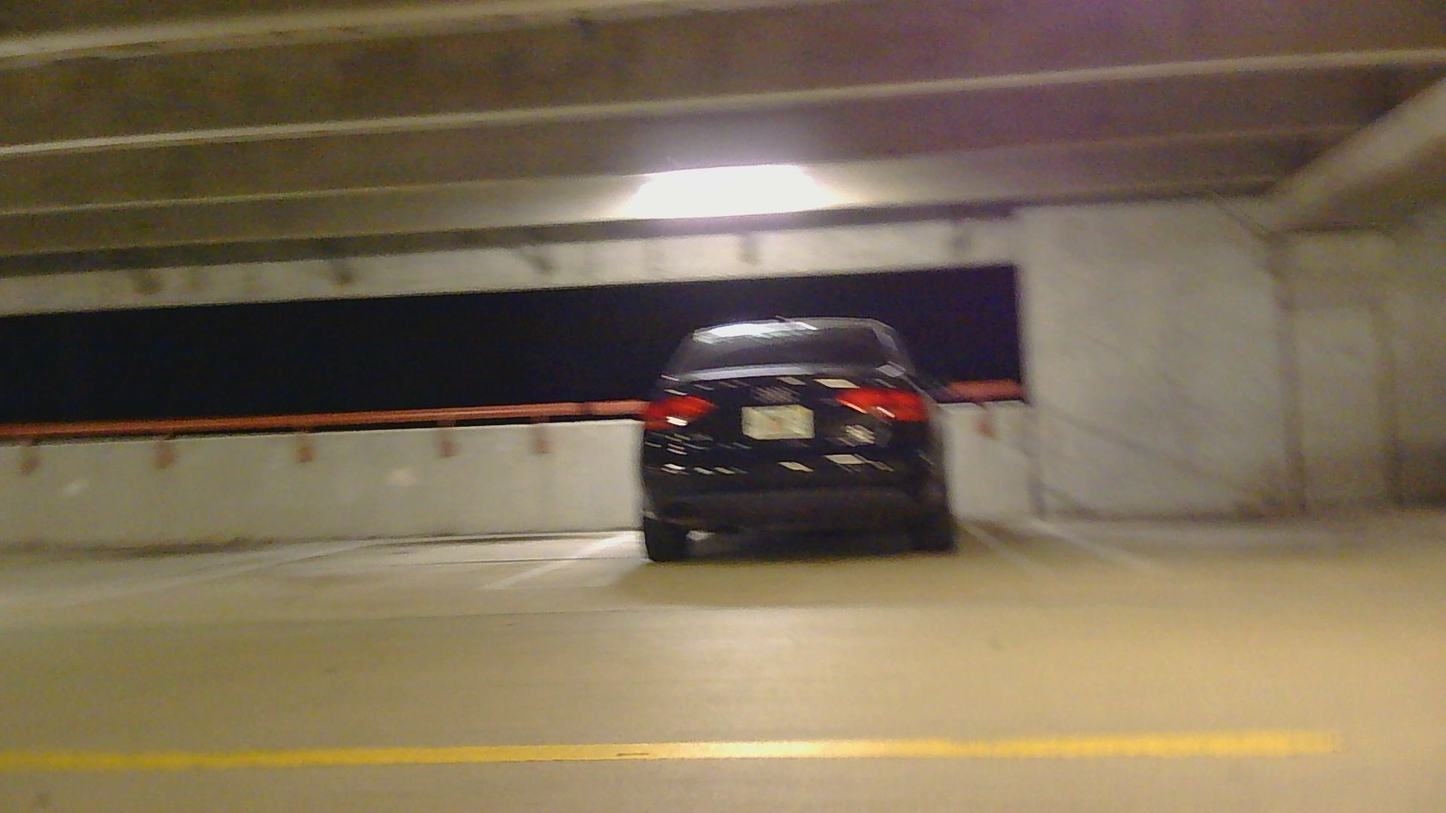empty_spot: (992, 453, 1445, 568), (33, 525, 659, 604)
occupied_spot: (630, 299, 966, 575)
